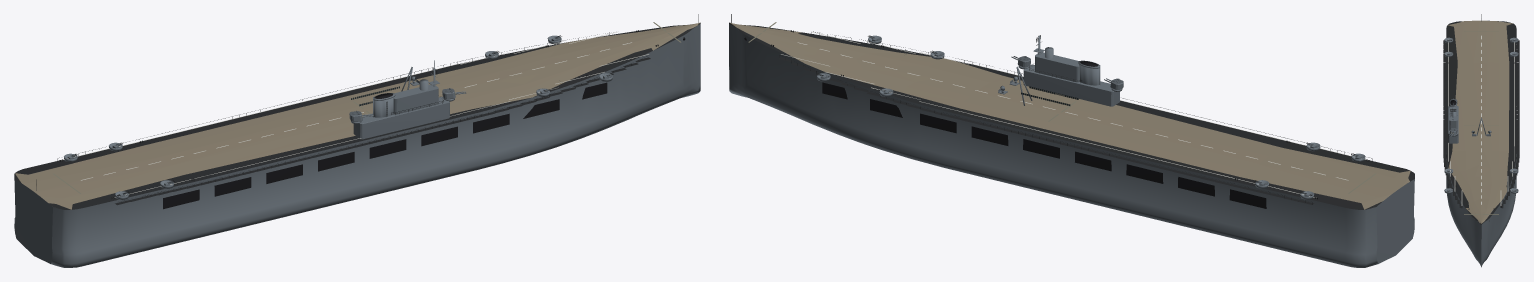
The model's file is essex_lod.glb.
The picture shows the model from 3 angles, left to right: view 1: azimuth 30°, elevation 25°; view 2: azimuth 150°, elevation 25°; view 3: azimuth 270°, elevation 25°; orthographic projection. The views are drawn at different scales.
Visible parts, largest first — view 1: essex_lod; view 2: essex_lod; view 3: essex_lod.
Part boxes in pixels (bbox=[...]): essex_lod: bbox=[14, 14, 700, 267]; essex_lod: bbox=[729, 14, 1414, 267]; essex_lod: bbox=[1443, 14, 1519, 267].
Size of the model in its own units: 266 by 45.48 by 41.38.
